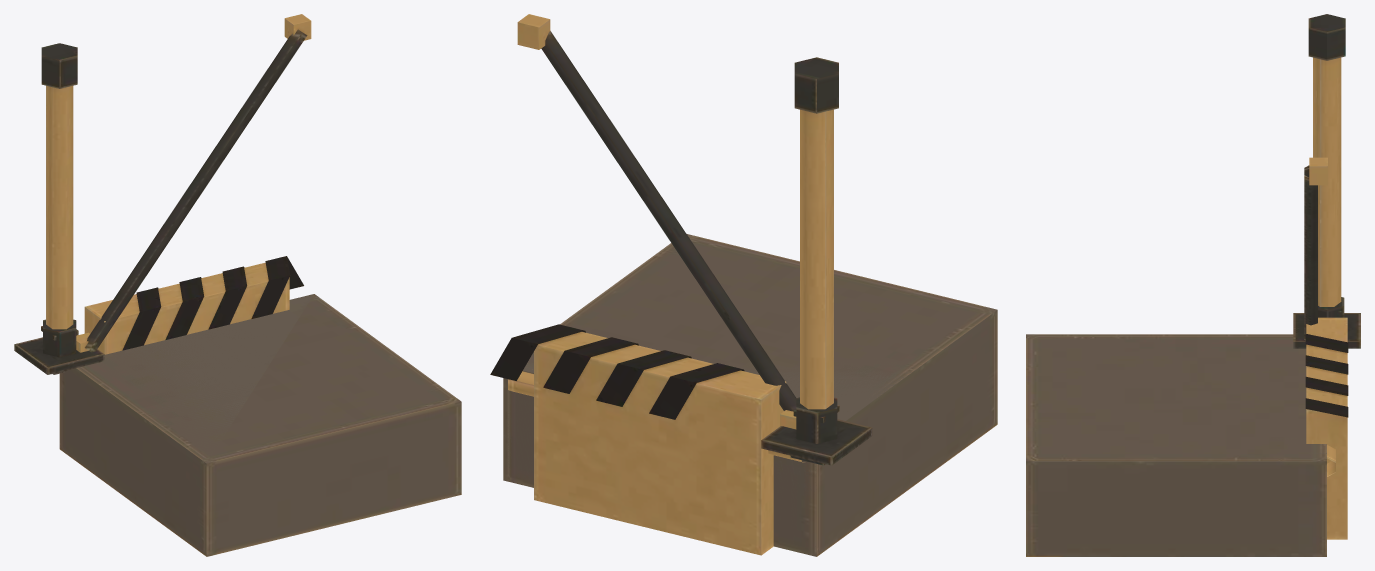
Rendered from scaffold-kit.glb.
3 views of the same model, side by side, from view 1: azimuth 30°, elevation 25°; view 2: azimuth 150°, elevation 25°; view 3: azimuth 270°, elevation 25° (orthographic). The views are drawn at different scales.
Visible parts, largest first — view 1: ScaffoldPad, ScaffoldPadCut, ScaffoldCurb, ScaffoldPost, ScaffoldBrace, ScaffoldFoot; view 2: ScaffoldPad, ScaffoldCurb, ScaffoldPost, ScaffoldBrace, ScaffoldFoot, ScaffoldPadCut; view 3: ScaffoldPad, ScaffoldPost, ScaffoldCurb, ScaffoldBrace, ScaffoldFoot.
Boxes of the visible parts, left/top/right/bottom form: ScaffoldPad: left=59, top=294, right=461, bottom=556; ScaffoldPadCut: left=97, top=294, right=313, bottom=457; ScaffoldCurb: left=84, top=256, right=303, bottom=354; ScaffoldPost: left=41, top=43, right=77, bottom=329; ScaffoldBrace: left=76, top=14, right=311, bottom=352; ScaffoldFoot: left=14, top=319, right=104, bottom=374; ScaffoldPad: left=503, top=234, right=997, bottom=556; ScaffoldCurb: left=490, top=324, right=786, bottom=555; ScaffoldPost: left=794, top=57, right=838, bottom=409; ScaffoldBrace: left=517, top=14, right=796, bottom=429; ScaffoldFoot: left=761, top=397, right=872, bottom=465; ScaffoldPadCut: left=503, top=361, right=916, bottom=542; ScaffoldPad: left=1026, top=334, right=1326, bottom=556; ScaffoldPost: left=1308, top=14, right=1345, bottom=306; ScaffoldCurb: left=1305, top=317, right=1348, bottom=539; ScaffoldBrace: left=1304, top=157, right=1327, bottom=340; ScaffoldFoot: left=1293, top=297, right=1360, bottom=348.
Bounding box in the file's own units: 1.78 × 2.38 × 1.78.
Materials: 1 (1 with a texture image).
